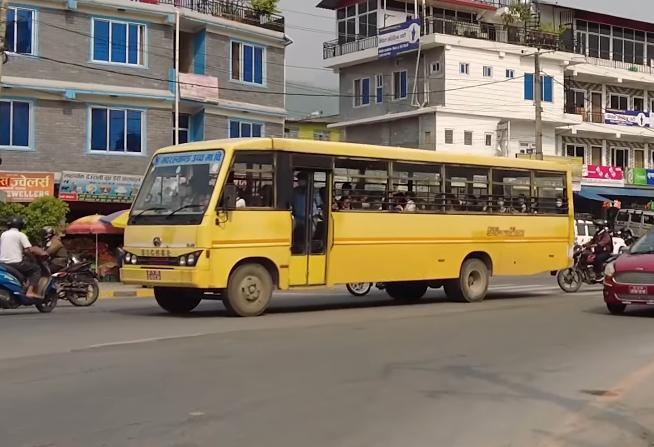car: (599, 229, 654, 311)
school_bus: (114, 132, 579, 316)
scooter: (0, 254, 58, 317)
